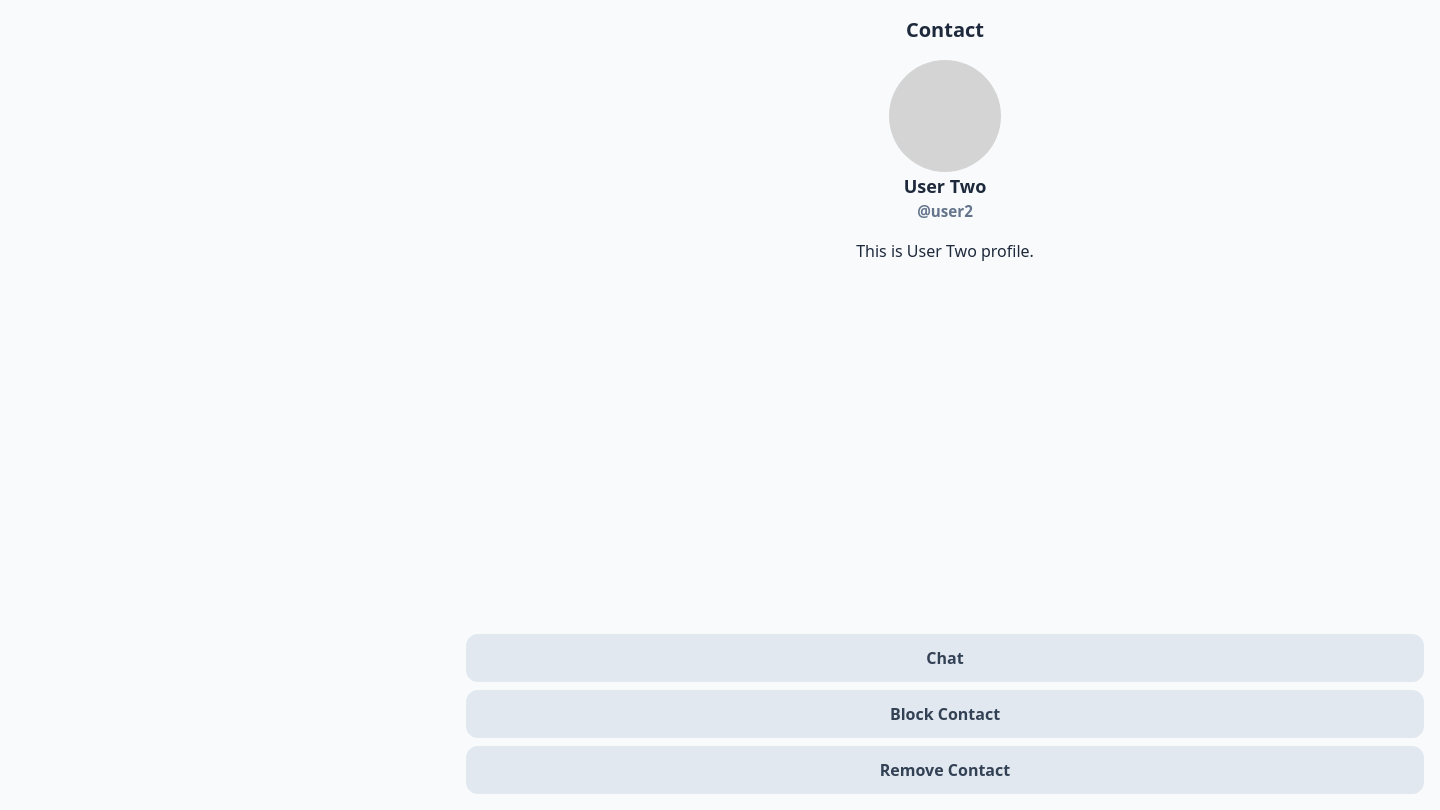
Test: <Contact /> › blocks contact on confirmation
The image size is (1440, 810).
Click the button with test id "block-or-unblock-contact-button".
click(945, 714)  # box [466,690,1424,738]
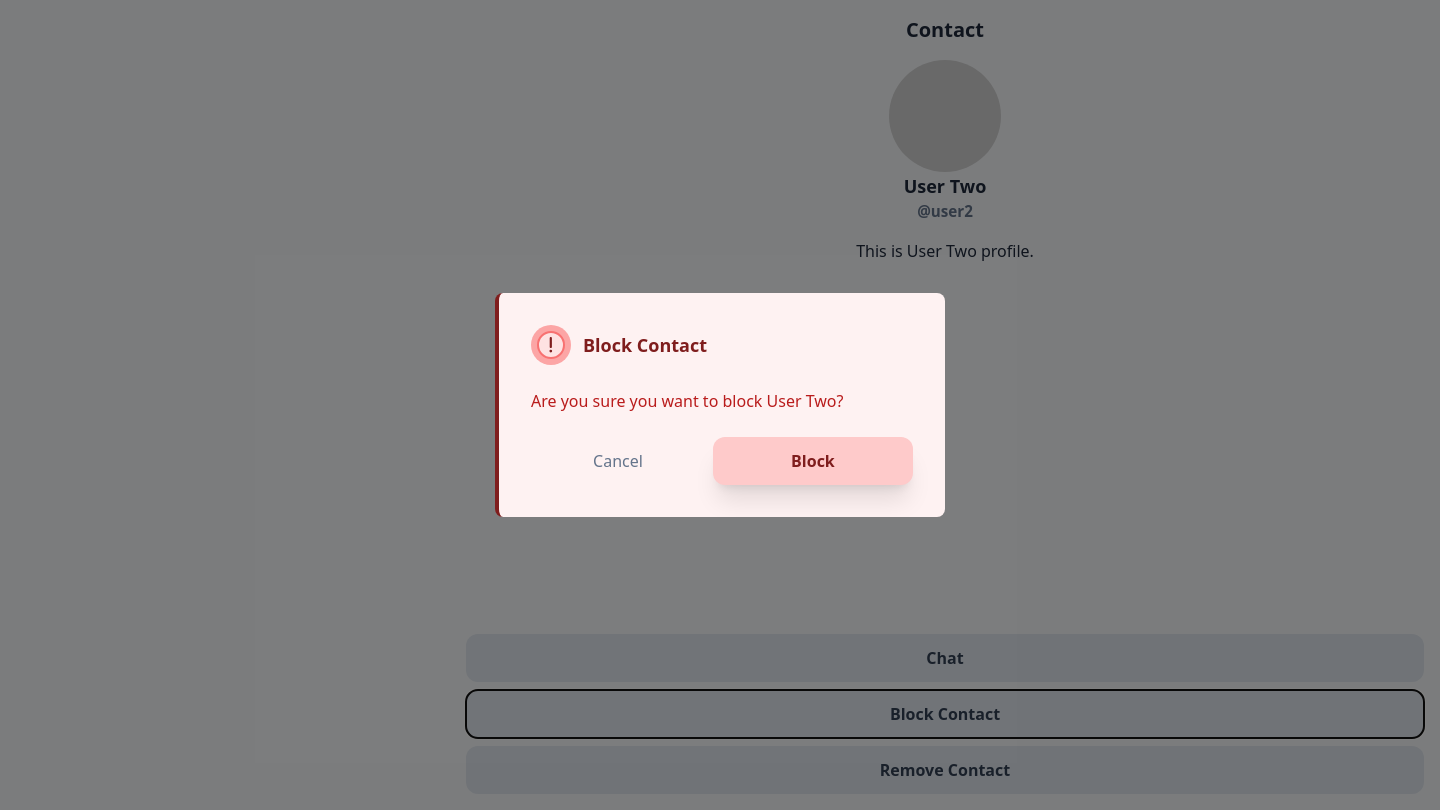
Click the button with test id "confirm-button".
click(813, 461)  # box [713,437,913,485]
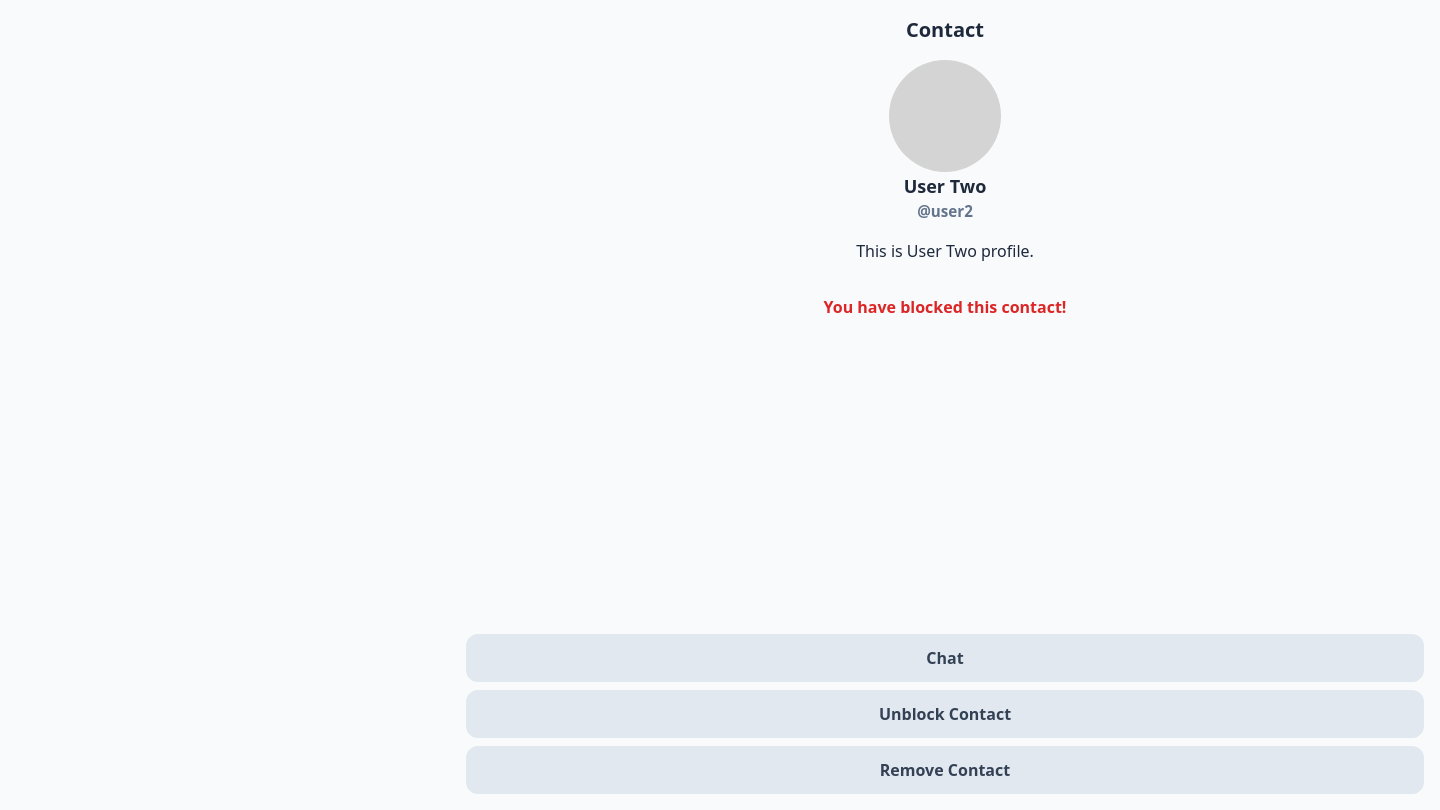
Expected: the text "You have blocked this contact!" is shown, [824,296,1066,318]
